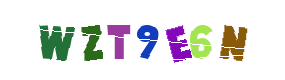6: (140, 0, 220, 80)
9: (108, 0, 188, 80)
E: (138, 0, 218, 80)
N: (193, 0, 273, 80)
T: (102, 0, 182, 80)
W: (29, 0, 109, 80)
Z: (86, 0, 166, 80)
